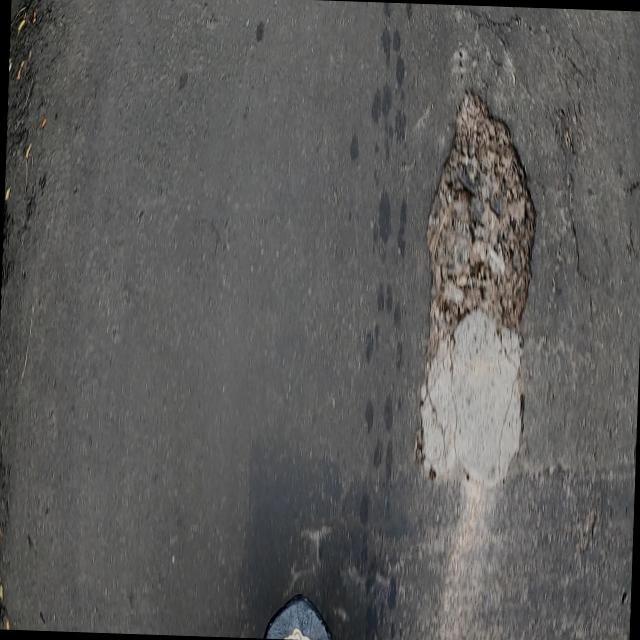Lubang: (417, 94, 535, 486)
